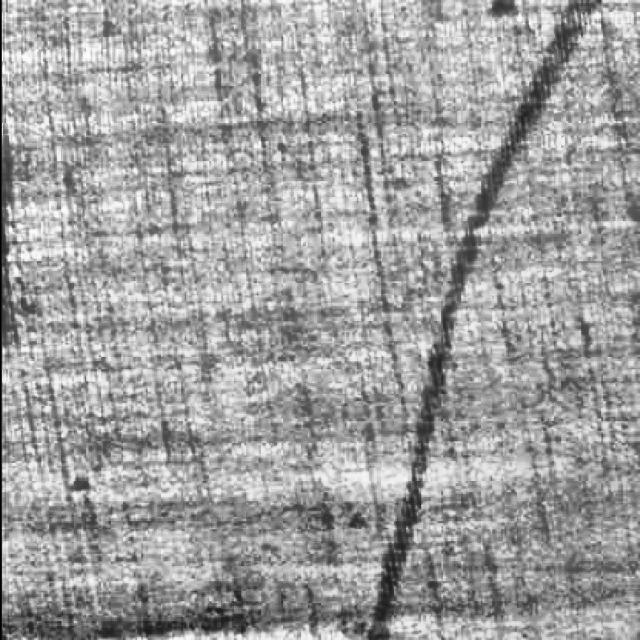oil_spot: (342, 0, 640, 640)
